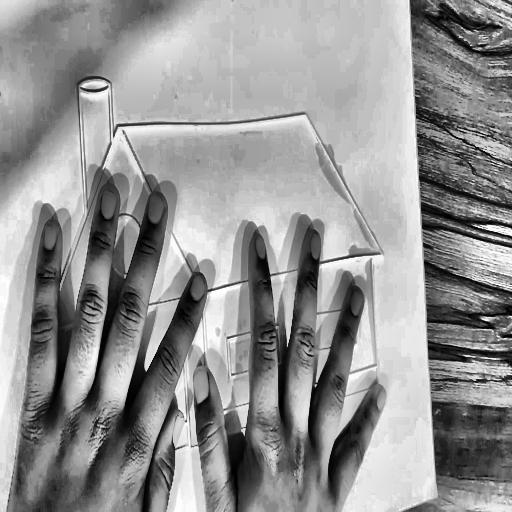bottom_right: (432, 488, 442, 505)
house: (12, 32, 397, 501)
